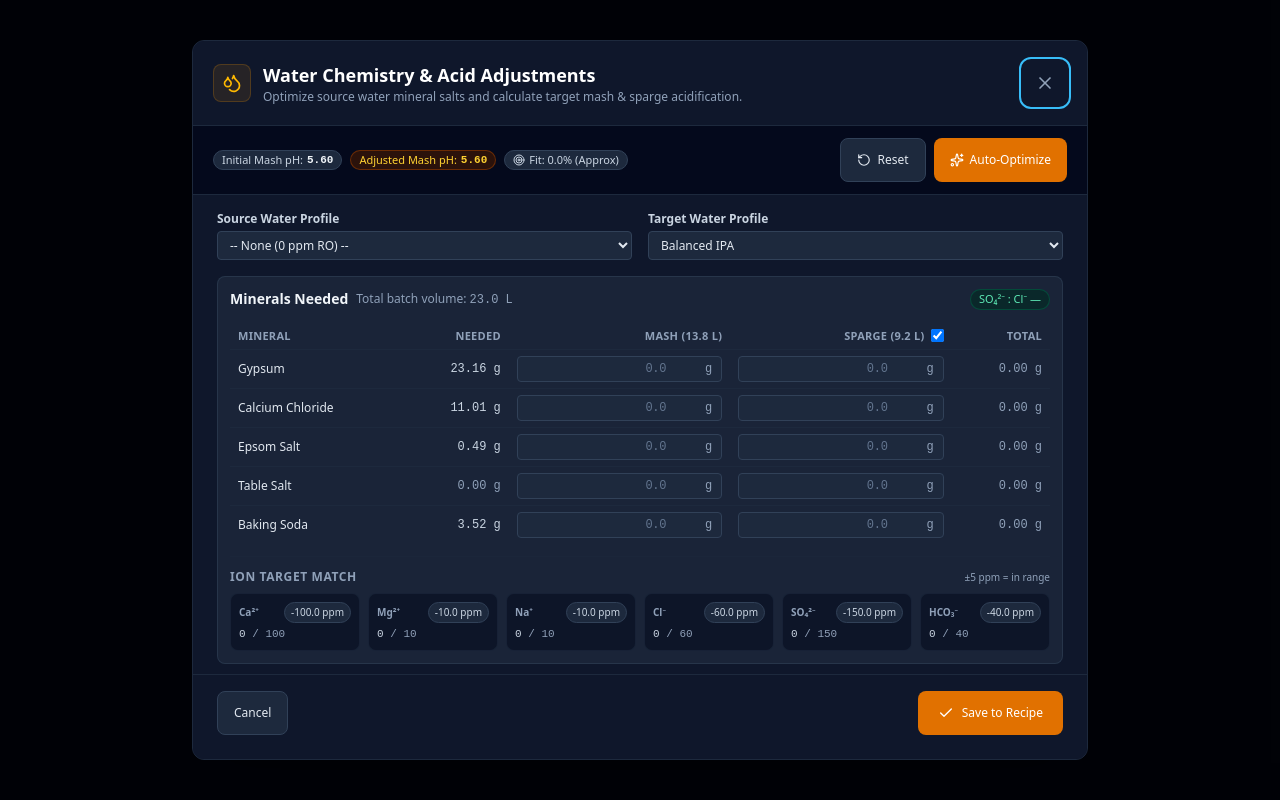
Test: AC-11: Total column is live in both toggle states; Needed column is invariant › updates totals live when AUTO runs and when sparge treatment is toggled, with Needed invariant
Check: the text with test id "mineral-needed-suggested-gypsum" reads "23.16 g", box [450,362,501,376]
Check: the text with test id "mineral-needed-suggested-calcium-chloride" reads "11.01 g", box [450,401,501,415]
Step 1. Click the button with test id "water-calc-auto-dose-btn" → (1000, 160), box [934,138,1067,182]
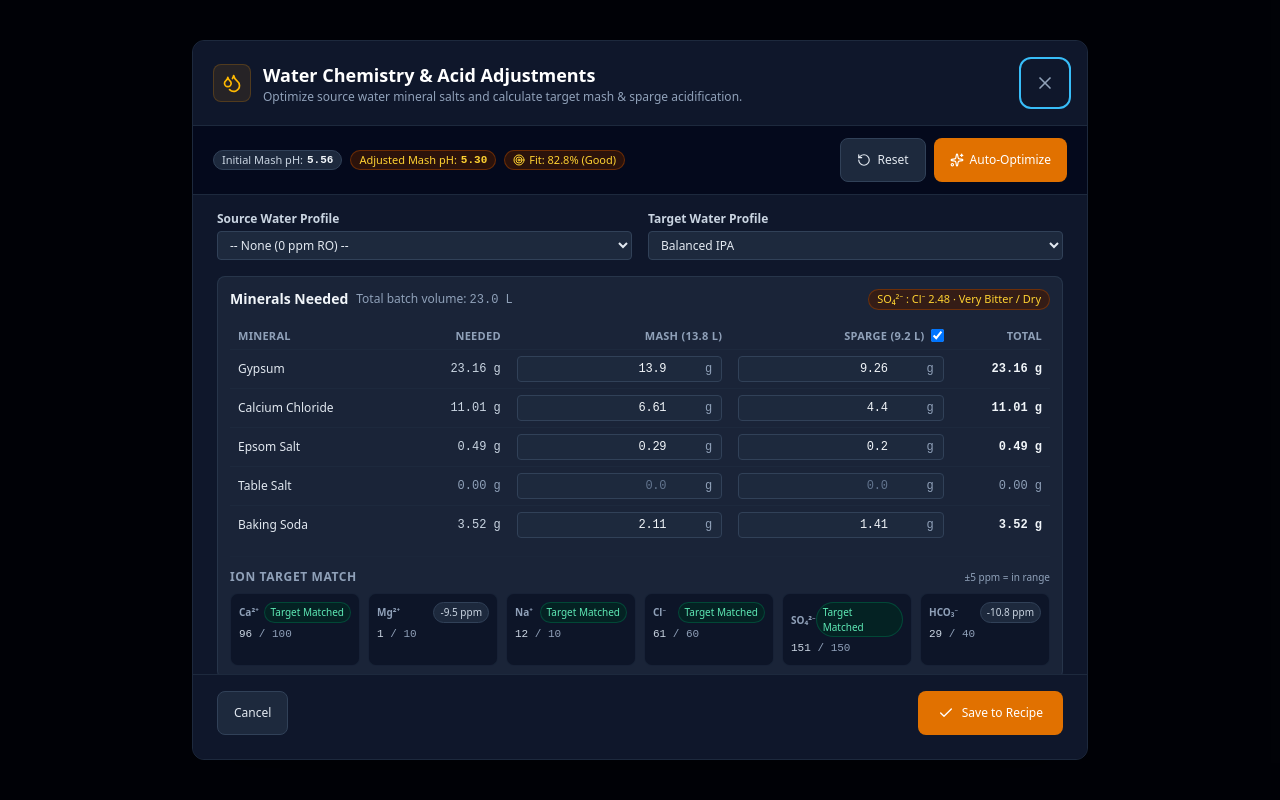
Check: the text with test id "mineral-needed-amount-gypsum" reads "23.16 g", box [992,362,1042,376]
Check: the text with test id "mineral-needed-amount-calcium-chloride" reads "11.01 g", box [992,401,1042,415]
Check: the text with test id "mineral-needed-amount-epsom-salt" reads "0.49 g", box [999,440,1042,454]
Step 2. Click the checkbox with test id "treat-sparge-water-toggle" → (937, 336), box [931,329,944,342]
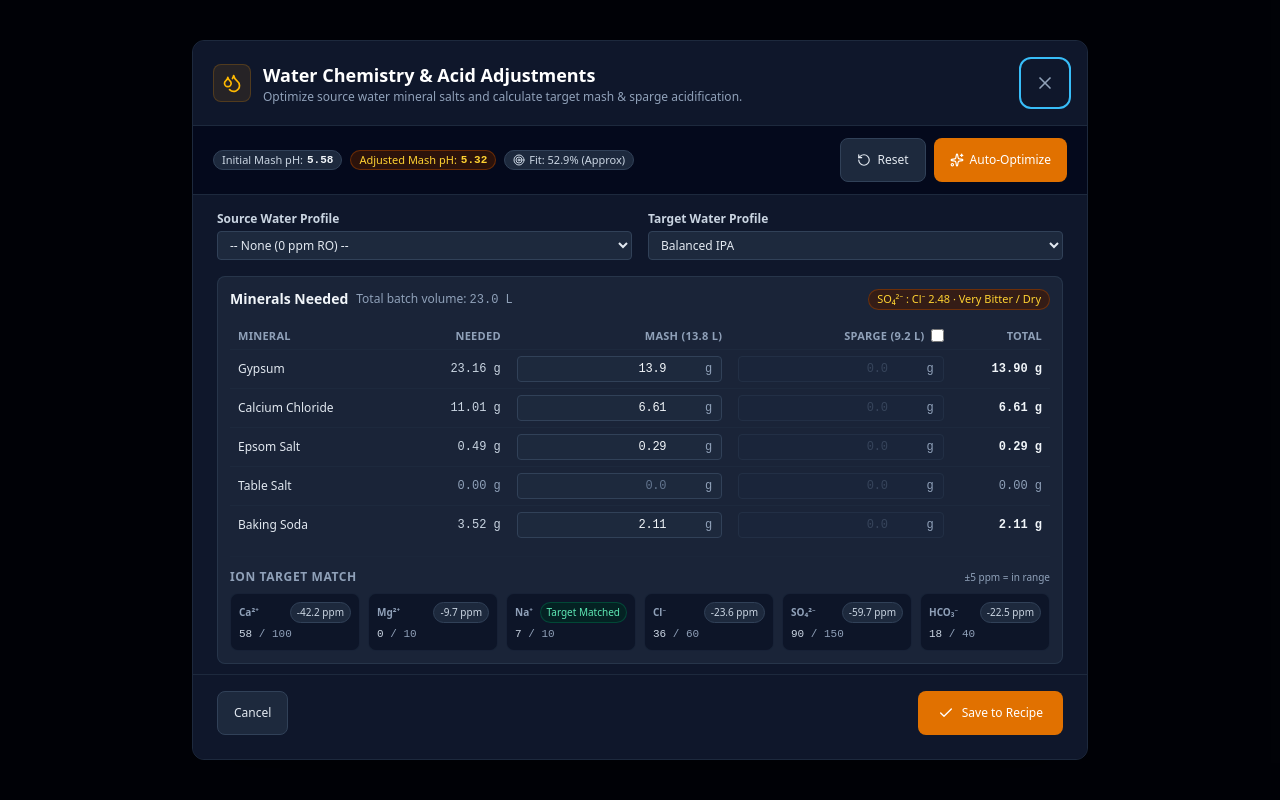
Check: the text with test id "mineral-needed-suggested-gypsum" reads "23.16 g", box [450,362,501,376]
Check: the text with test id "mineral-needed-amount-gypsum" reads "13.90 g", box [992,362,1042,376]
Step 3. Click the checkbox with test id "treat-sparge-water-toggle" → (937, 336), box [931,329,944,342]
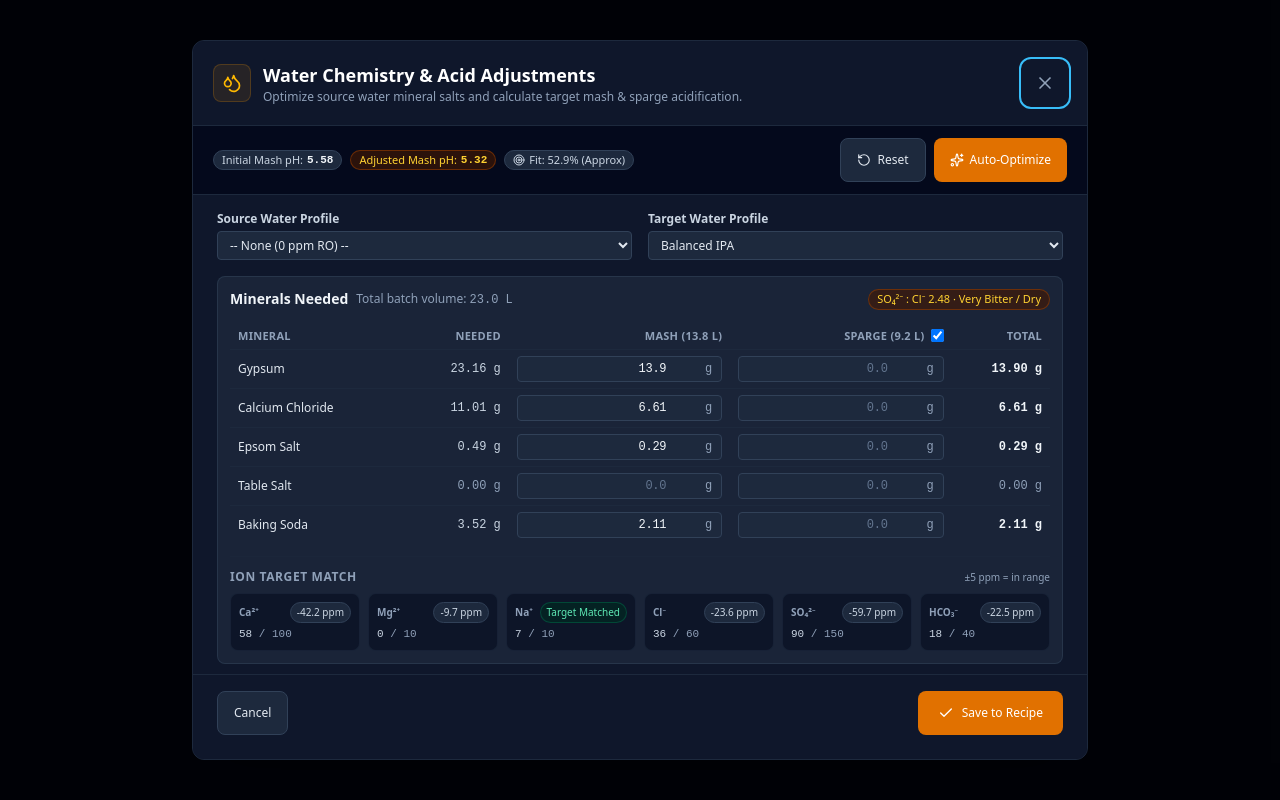
Step 4. Click the button with test id "water-calc-auto-dose-btn" → (1000, 160), box [934,138,1067,182]
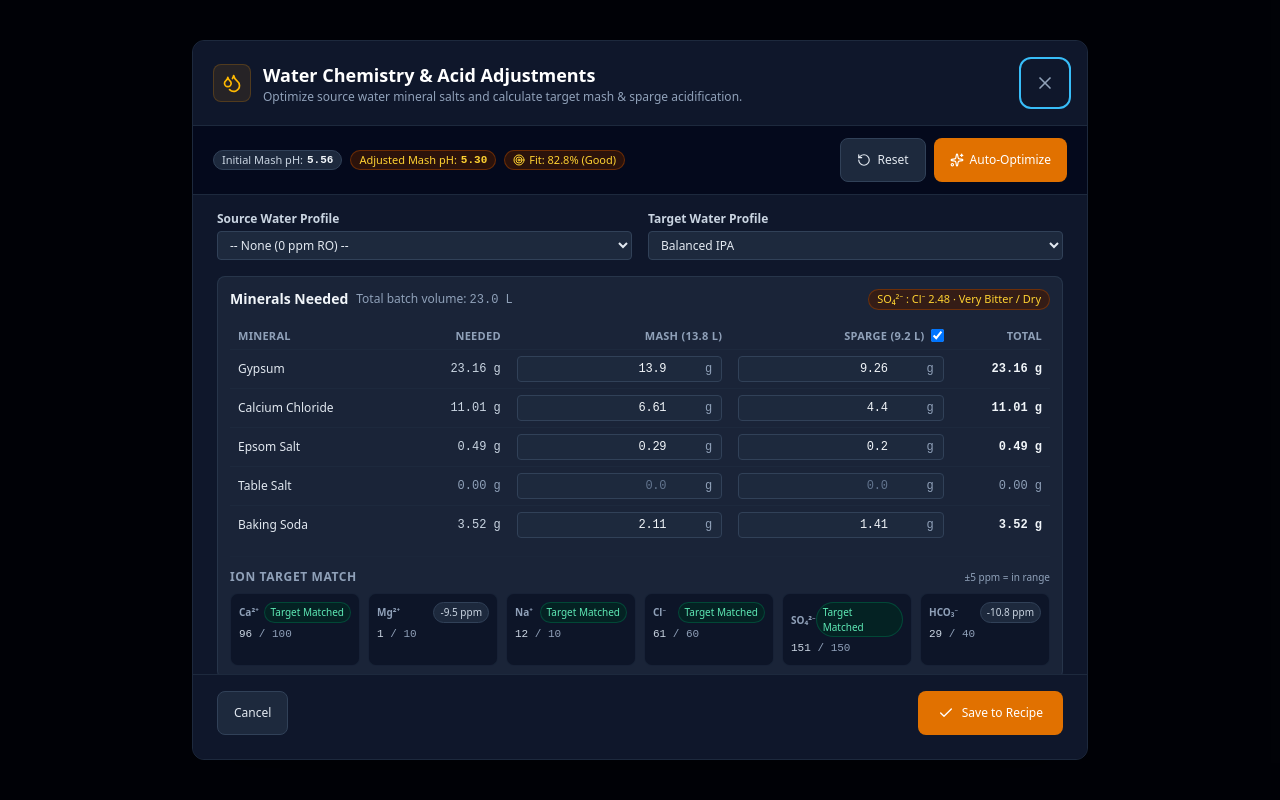
Check: the text with test id "mineral-needed-amount-gypsum" reads "23.16 g", box [992,362,1042,376]
